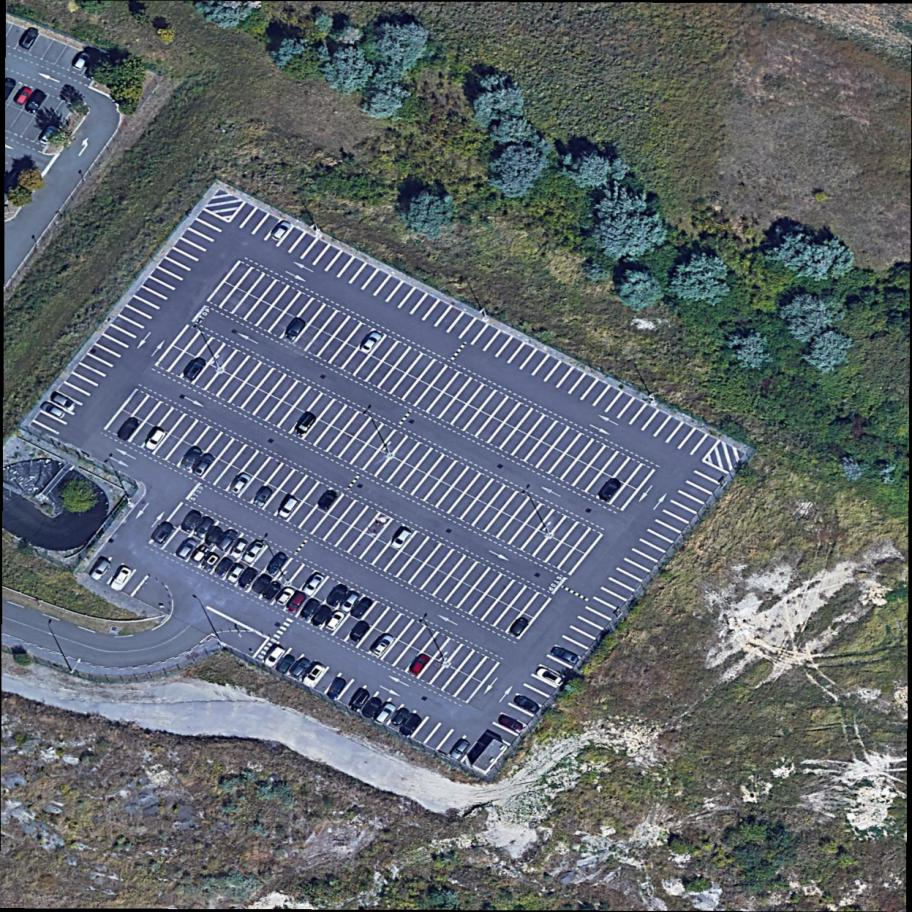small-vehicle: (114, 410, 143, 443), (369, 630, 397, 660), (149, 517, 176, 547), (191, 449, 217, 479), (324, 580, 350, 609), (288, 654, 314, 682), (179, 507, 205, 535), (265, 550, 290, 579), (241, 538, 266, 567), (23, 88, 48, 117), (293, 410, 318, 439), (534, 665, 565, 688), (301, 570, 326, 598), (301, 661, 326, 689), (360, 693, 385, 721), (180, 444, 204, 473), (183, 355, 208, 382), (216, 527, 241, 554), (310, 602, 334, 630), (350, 594, 374, 622), (373, 700, 397, 728), (598, 476, 622, 504), (298, 596, 322, 623), (284, 589, 308, 616), (263, 643, 287, 670), (399, 712, 423, 739), (360, 329, 384, 356), (88, 556, 112, 583), (228, 470, 252, 497), (176, 535, 200, 562), (110, 565, 133, 593), (236, 564, 260, 590), (250, 570, 274, 596), (269, 218, 293, 244), (276, 495, 300, 521), (324, 607, 347, 634), (408, 651, 431, 678), (284, 316, 307, 343), (144, 427, 167, 454), (316, 486, 339, 513), (193, 514, 216, 541), (325, 674, 347, 702), (550, 646, 580, 666), (349, 688, 372, 714), (448, 736, 471, 762), (39, 399, 67, 420), (261, 578, 284, 603), (339, 589, 361, 615), (19, 25, 41, 51), (51, 392, 78, 413), (37, 123, 59, 148), (252, 484, 274, 509), (391, 527, 413, 552), (203, 523, 225, 548), (498, 714, 525, 734), (349, 620, 371, 644), (390, 705, 412, 729), (189, 543, 211, 567), (213, 555, 234, 580), (514, 694, 540, 714), (200, 551, 222, 574), (275, 585, 296, 609), (225, 561, 246, 585), (13, 84, 34, 108), (229, 536, 249, 560), (276, 652, 296, 675), (72, 49, 91, 73), (510, 616, 530, 638), (5, 75, 19, 102)
